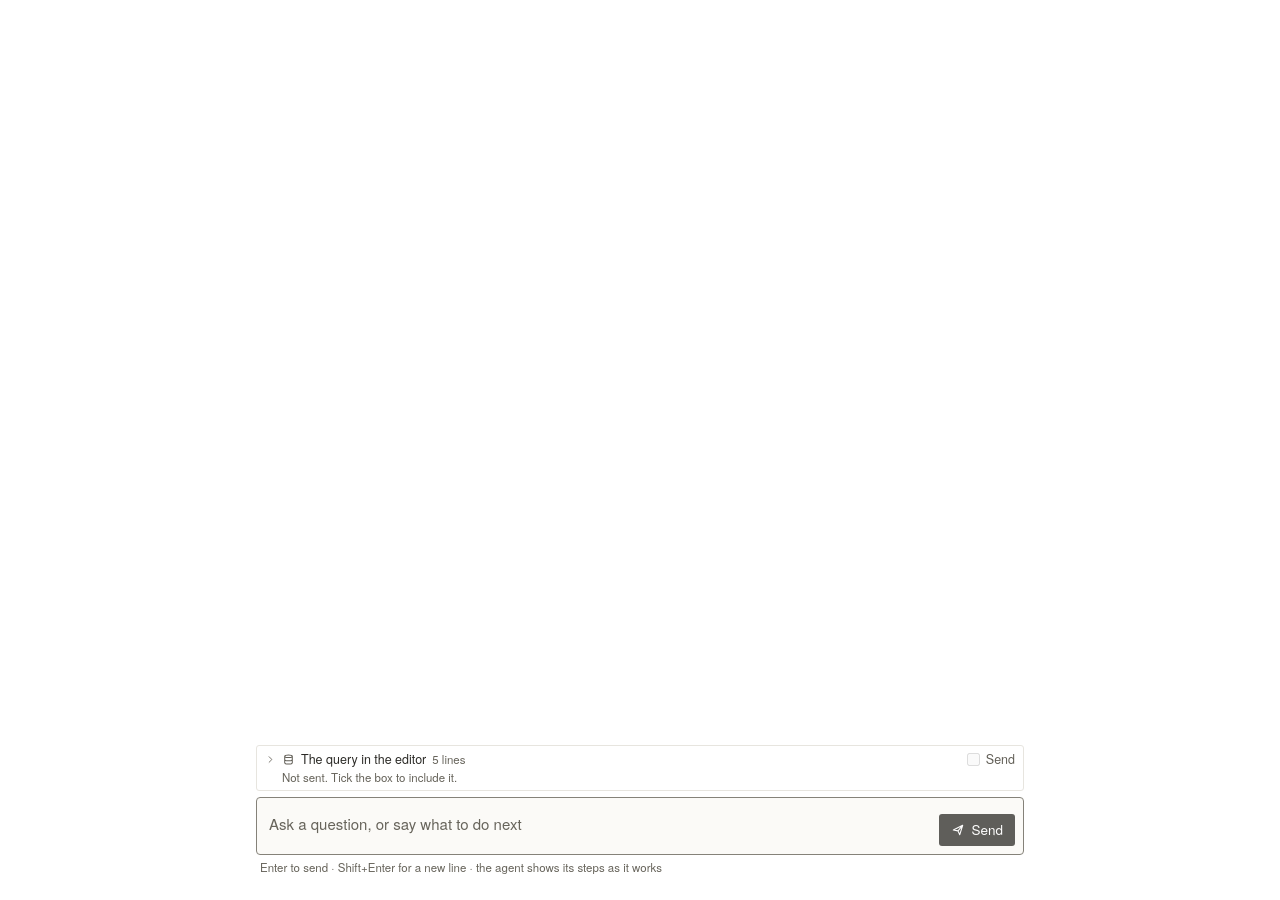
it: shows the context as one line, and exactly what would be sent only when asked
This screenshot has width=1280, height=900.
Expected: the element with test id "context-row" shows "5 lines", [256, 745, 1024, 791]
Expected: the element with test id "context-row" shows "Not sent.", [282, 768, 457, 784]
Click the button "The query in the editor 5 lines". click: {"x": 364, "y": 759}
box: [265, 750, 959, 769]
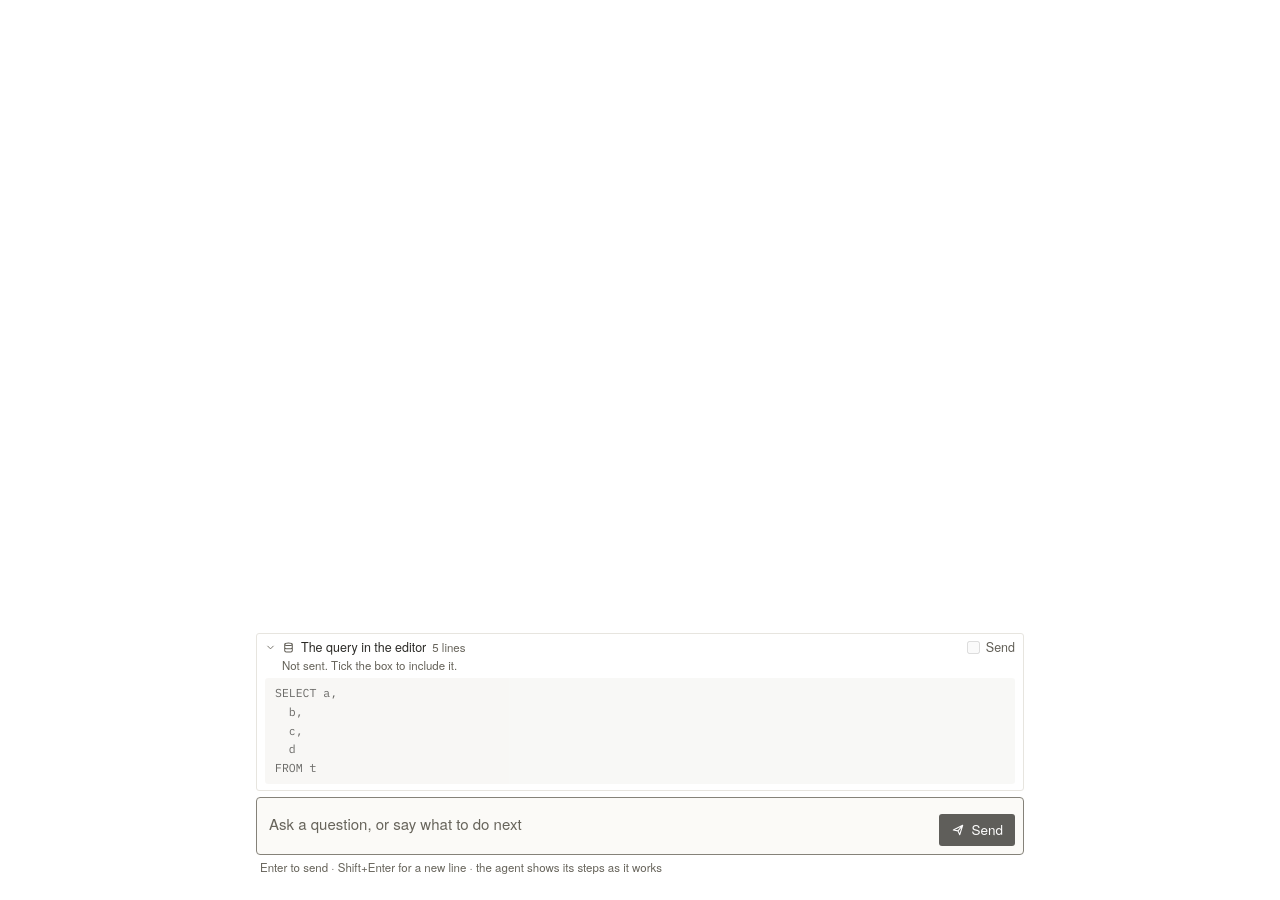
Expected: the button "The query in the editor 5 lines" is expanded, [265, 638, 959, 657]
Click the checkbox named "Send with message: The query in the SQL editor". click: {"x": 973, "y": 648}
box: [967, 641, 980, 654]
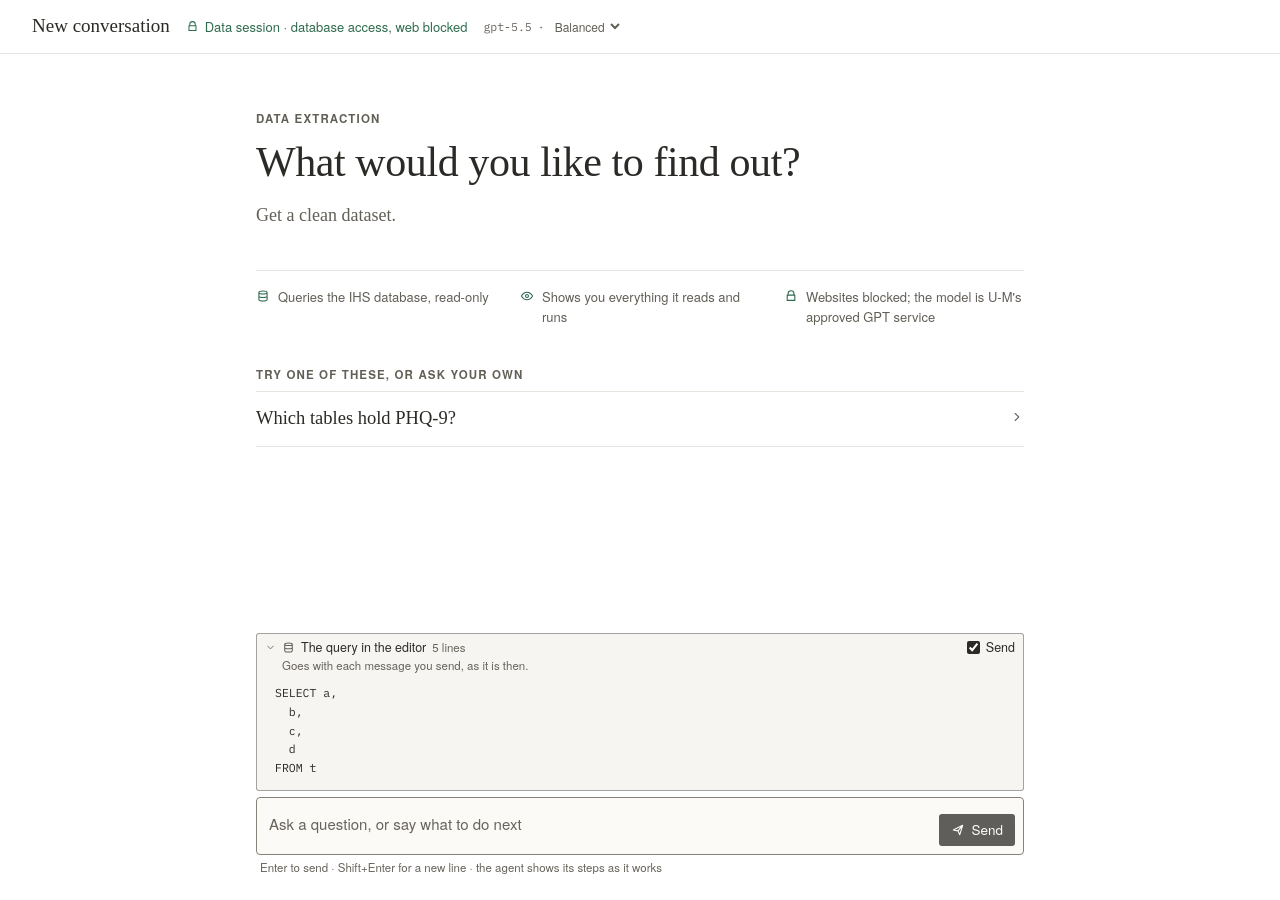
Expected: the element with test id "context-row" shows "Goes with each message you send", [282, 657, 528, 673]
